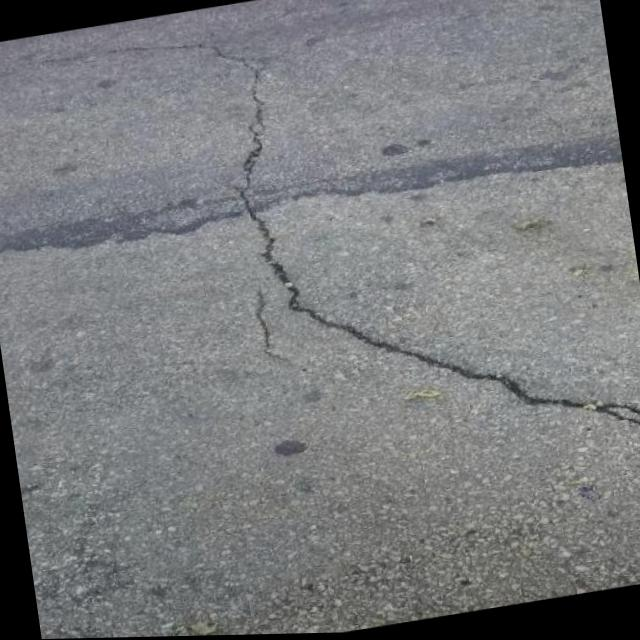Crack: (11, 0, 640, 525)
